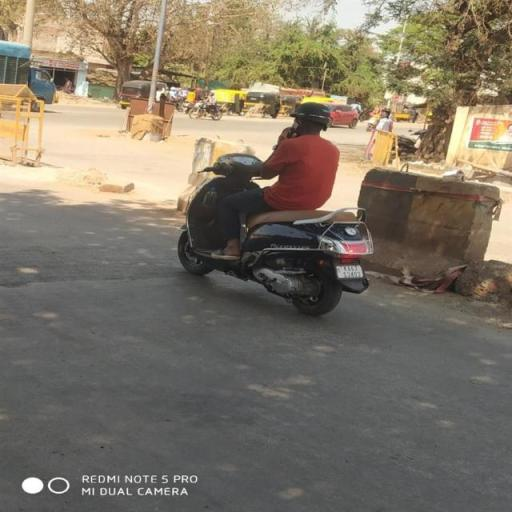using mobile: (280, 121, 302, 142)
